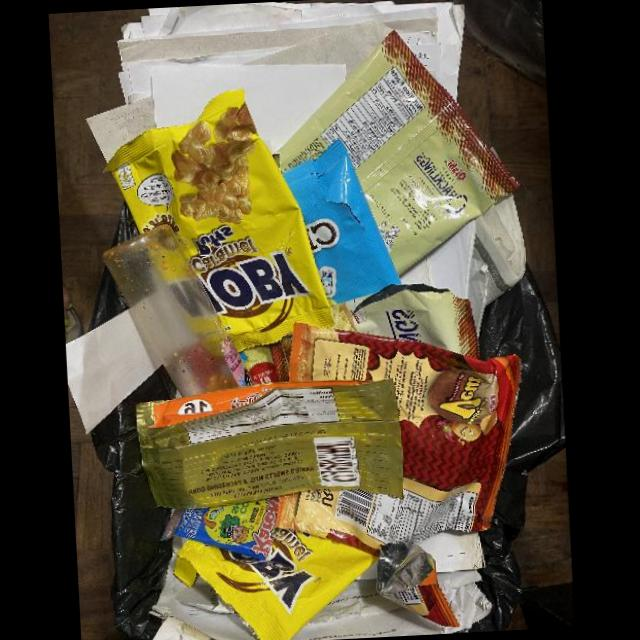bao_bi_thuc_pham: (277, 324, 522, 628), (272, 30, 520, 283), (105, 86, 337, 353), (135, 378, 402, 510), (282, 137, 401, 310), (349, 284, 483, 359)
chai_nhua_pet: (105, 227, 256, 395)
giay: (118, 1, 464, 105), (290, 531, 491, 640), (152, 65, 345, 157), (66, 307, 160, 436), (148, 534, 261, 640), (401, 217, 475, 301), (472, 194, 527, 304), (415, 528, 487, 572), (470, 260, 487, 331), (438, 570, 482, 591)
